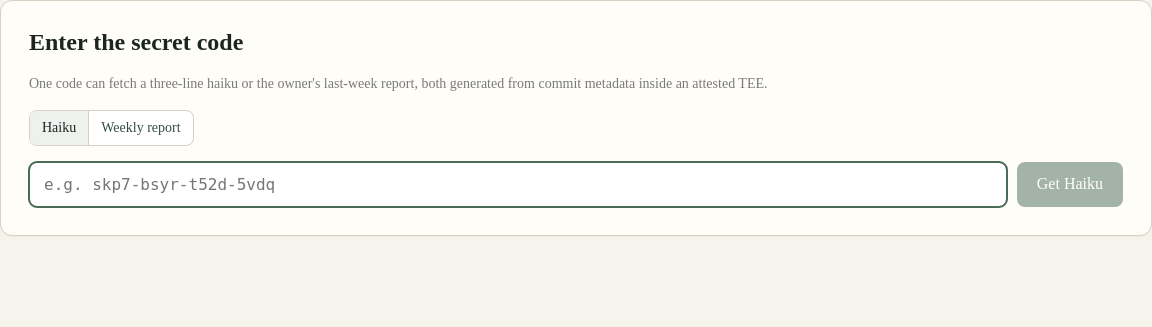
Test: Requester › renders a denial and no MCP panel
The image size is (1152, 327).
Step 1. Type "bad-code" into the field named "secret code" → (518, 184), box [29,162,1007,207]
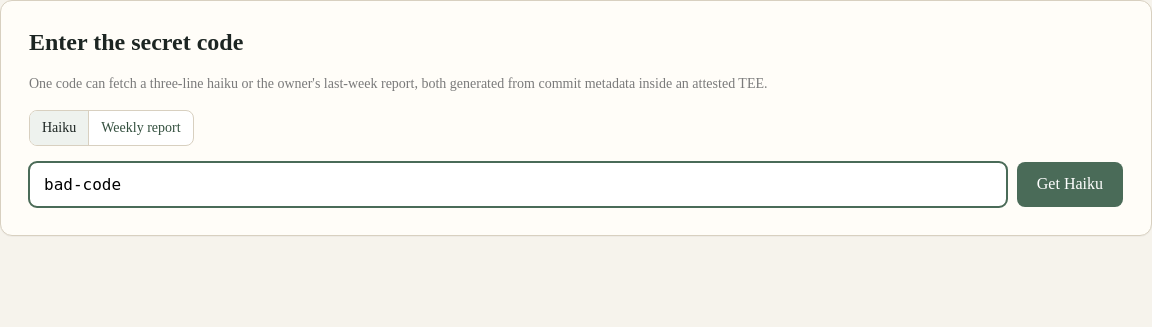
Step 2. Click the button "Get Haiku" → (1070, 184), box [1017,162,1123,207]
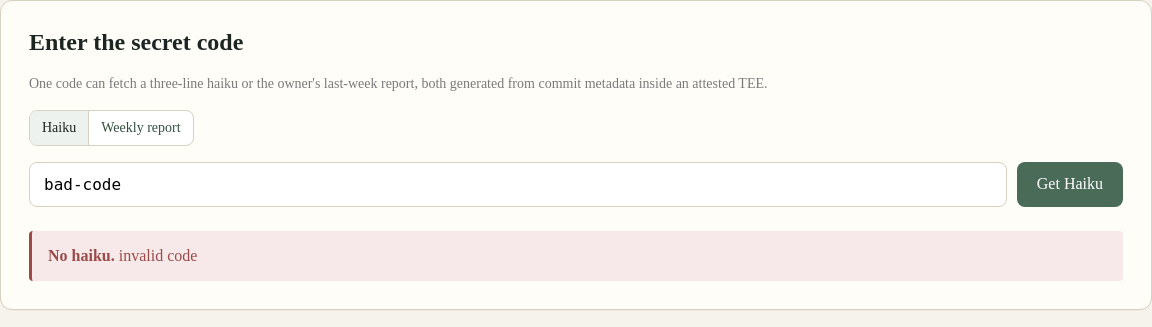
Check: the text "No haiku." is shown, box [48,247,115,264]
